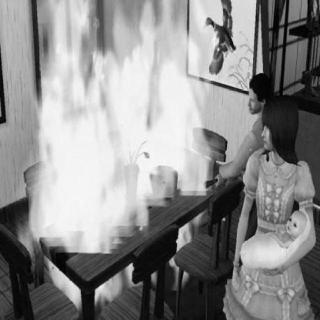Fire: (19, 0, 218, 306)
